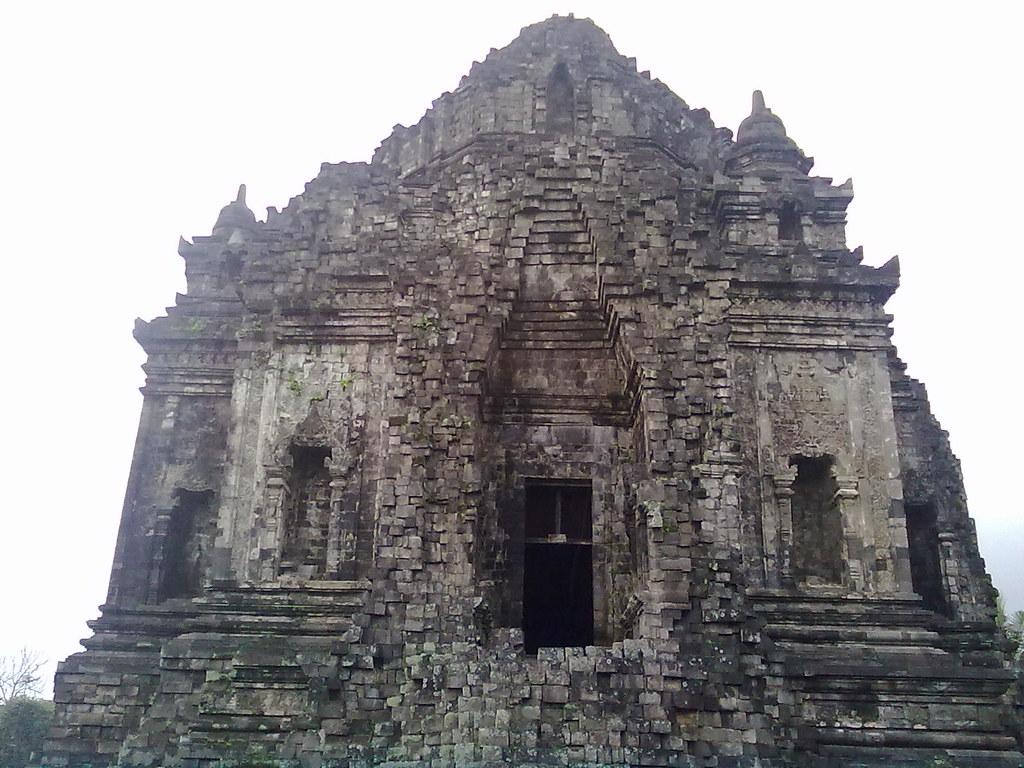temple: (39, 12, 1021, 767)
